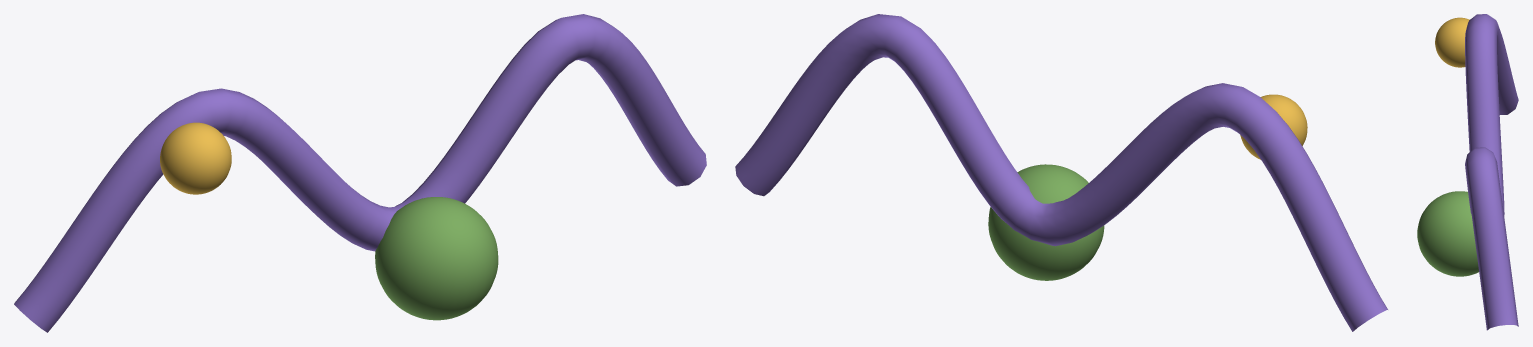
File: bio-genetics-protein.glb
3 views of the same model, side by side, from view 1: azimuth 30°, elevation 25°; view 2: azimuth 150°, elevation 25°; view 3: azimuth 270°, elevation 25° (orthographic). The views are drawn at different scales.
Visible parts, largest first — view 1: folded-protein-chain-from-gene, active-shape-pocket, amino-acid-bead; view 2: folded-protein-chain-from-gene, active-shape-pocket, amino-acid-bead; view 3: folded-protein-chain-from-gene, active-shape-pocket, amino-acid-bead.
Boxes of the visible parts, left/top/right/bottom form: folded-protein-chain-from-gene: left=14, top=14, right=706, bottom=332; active-shape-pocket: left=375, top=197, right=498, bottom=320; amino-acid-bead: left=160, top=122, right=231, bottom=194; folded-protein-chain-from-gene: left=735, top=14, right=1387, bottom=331; active-shape-pocket: left=988, top=164, right=1104, bottom=280; amino-acid-bead: left=1240, top=94, right=1307, bottom=159; folded-protein-chain-from-gene: left=1465, top=14, right=1518, bottom=330; active-shape-pocket: left=1417, top=191, right=1478, bottom=276; amino-acid-bead: left=1435, top=17, right=1469, bottom=67.
Size of what is drawn, in the model's own units: 1.54 by 0.5627 by 0.2847.
